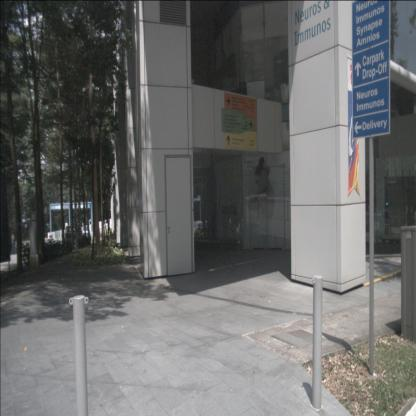vehicle-car: (65, 225, 83, 242), (11, 241, 24, 253)
